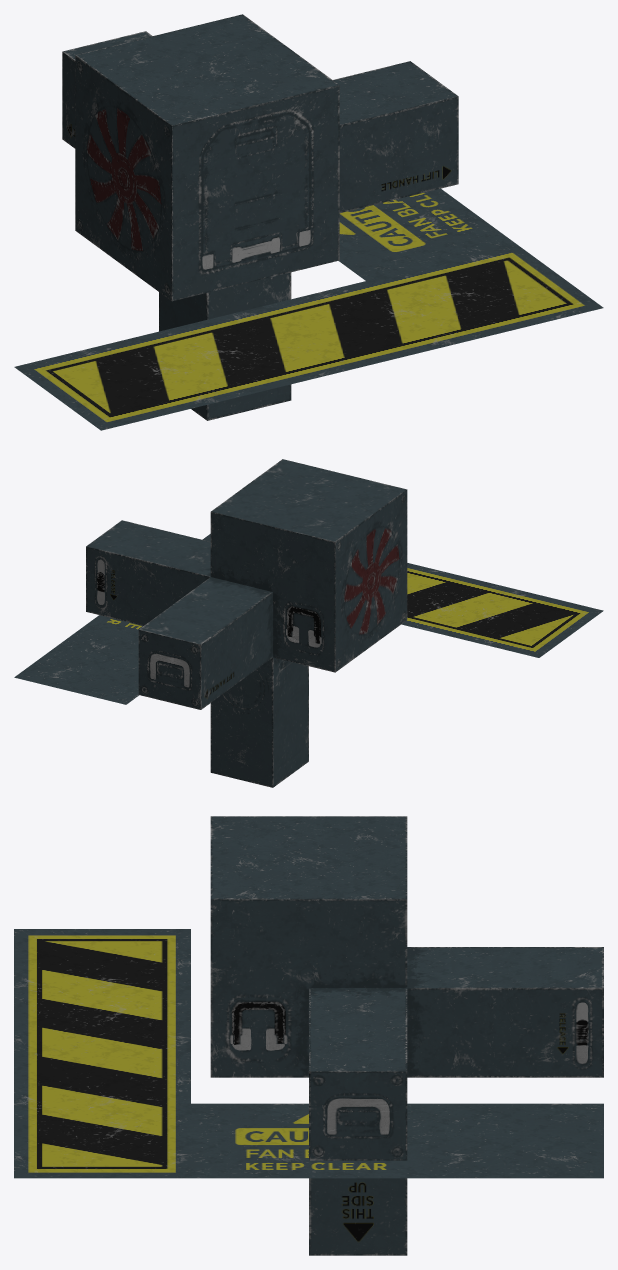
The model's file is Node_NegativeScale_08.gltf.
3 views of the same model, one above another, from view 1: azimuth 30°, elevation 25°; view 2: azimuth 150°, elevation 25°; view 3: azimuth 270°, elevation 25° (orthographic). The views are drawn at different scales.
Parts seen in each view (by area): view 1: Node1, Node0; view 2: Node1, Node0; view 3: Node1, Node0.
Part boxes in pixels (<box>): Node1: <box>62,14,458,420</box>; Node0: <box>14,188,603,430</box>; Node1: <box>86,459,407,787</box>; Node0: <box>14,534,603,704</box>; Node1: <box>210,816,603,1255</box>; Node0: <box>14,929,603,1178</box>.
Bounding box in the file's own units: 15 × 10 × 15.
2 materials, 2 textured.
